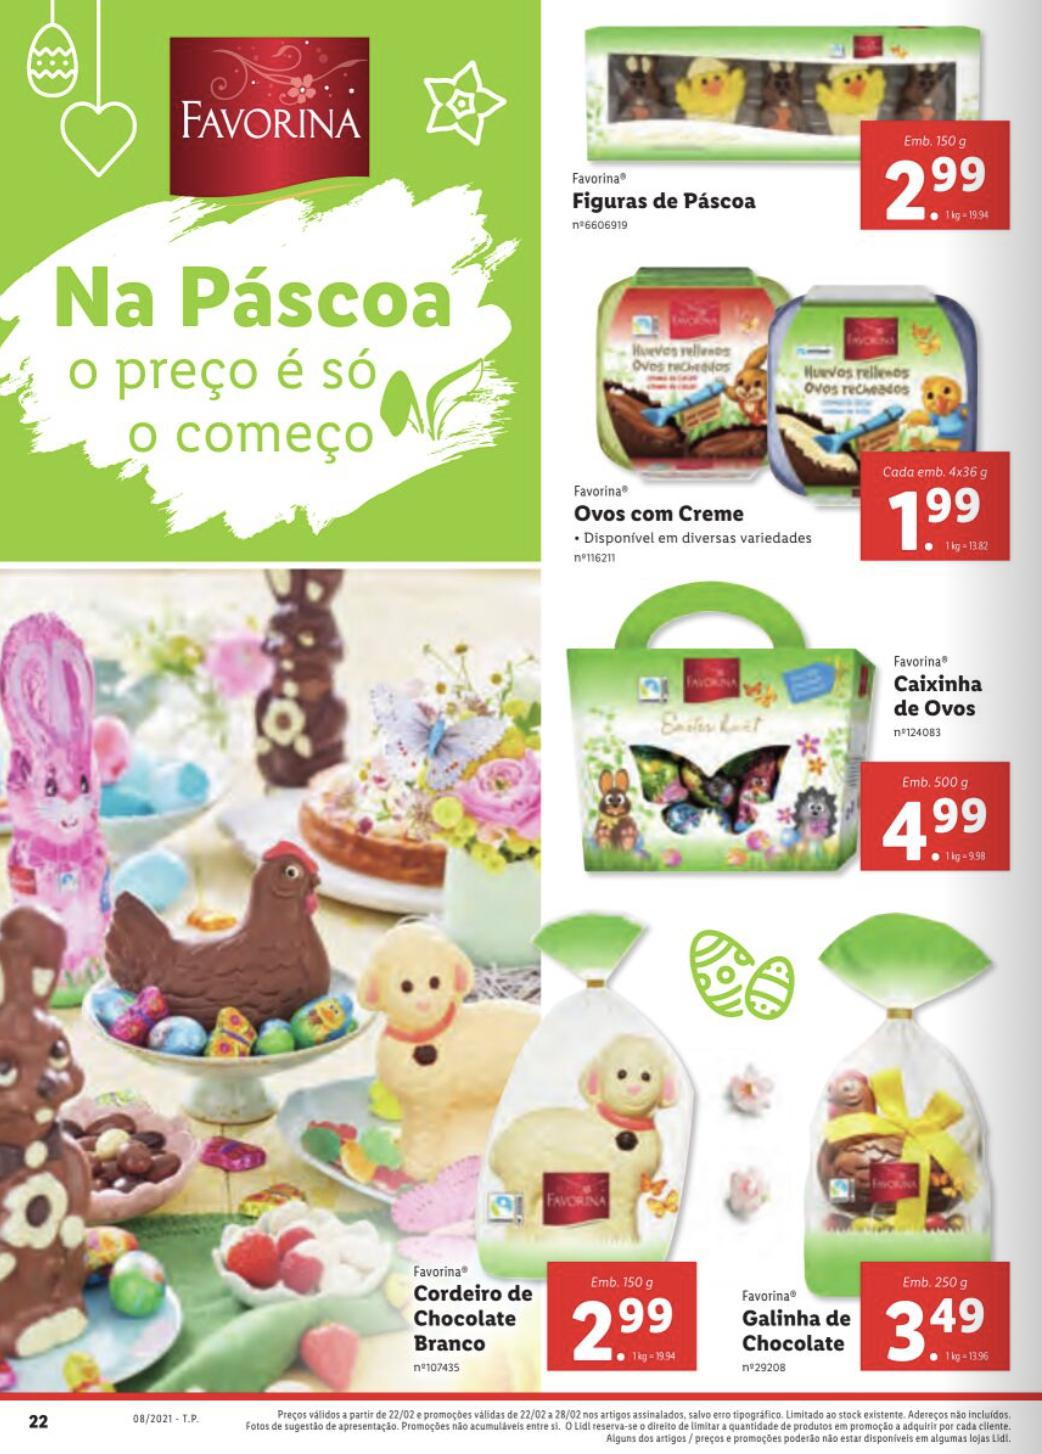name: (406, 1284, 537, 1359), (742, 1306, 855, 1359), (571, 190, 762, 218), (888, 670, 990, 719), (571, 500, 753, 527)
price: (881, 479, 995, 561), (881, 151, 999, 228), (881, 1291, 990, 1371), (571, 1289, 681, 1368), (884, 791, 990, 870)
product: (373, 906, 699, 1377), (713, 917, 1035, 1382), (553, 259, 1021, 571), (557, 593, 1039, 893), (548, 14, 1024, 257)
